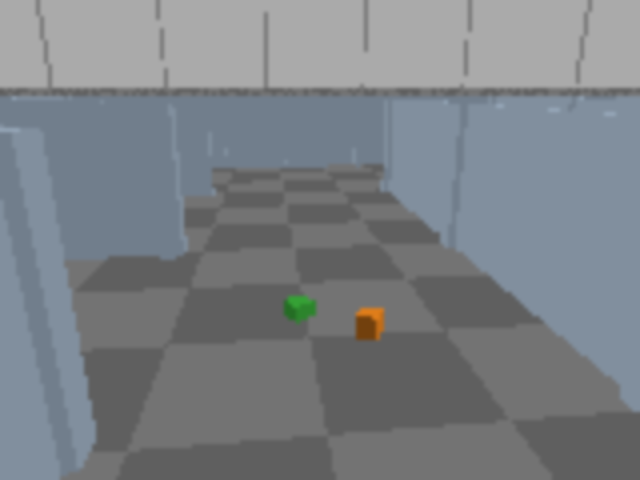puck: (355, 306, 384, 342), (283, 294, 314, 323)
